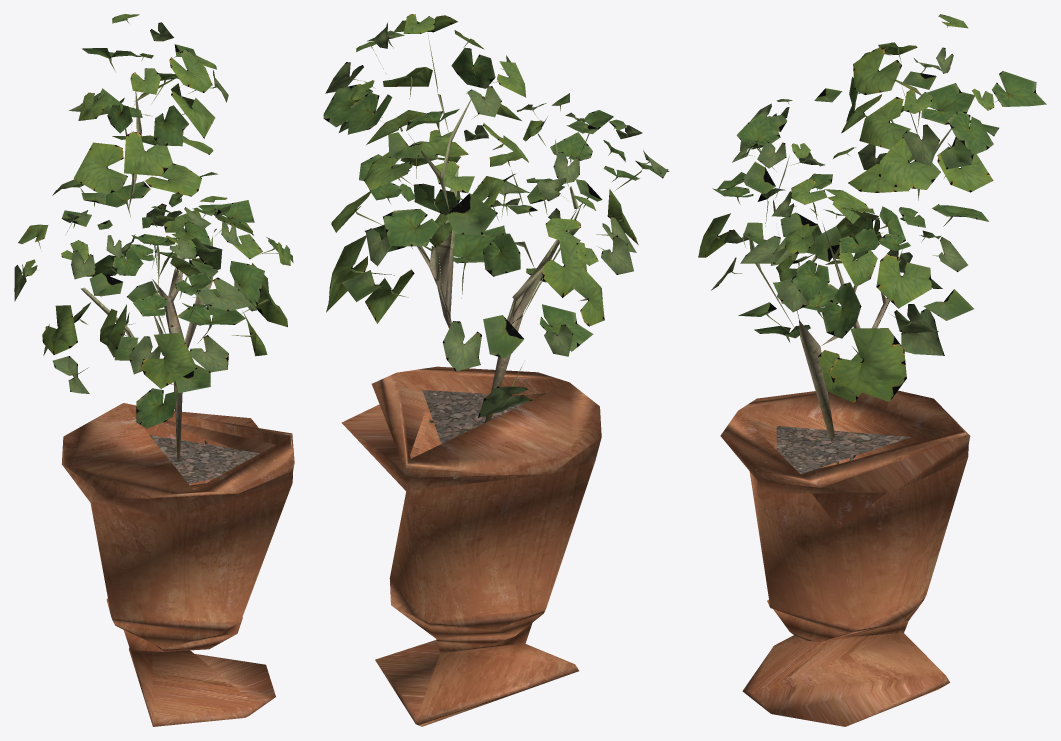
The picture shows the model from 3 angles, left to right: view 1: azimuth 30°, elevation 25°; view 2: azimuth 150°, elevation 25°; view 3: azimuth 270°, elevation 25°; orthographic projection. The views are drawn at different scales.
Parts seen in each view (by area): view 1: potted_plant_01_stem, potted_plant_01_leaves; view 2: potted_plant_01_stem, potted_plant_01_leaves; view 3: potted_plant_01_stem, potted_plant_01_leaves.
Boxes of the visible parts, box(x1,y1,x2,y2) form: potted_plant_01_stem: box(62, 91, 294, 726); potted_plant_01_leaves: box(14, 14, 293, 428); potted_plant_01_stem: box(341, 90, 601, 726); potted_plant_01_leaves: box(323, 14, 669, 417); potted_plant_01_stem: box(720, 87, 970, 726); potted_plant_01_leaves: box(698, 14, 1046, 402).
Bounding box in the file's own units: 0.5775 × 1.33 × 0.6293.
2 materials, 2 textured.
